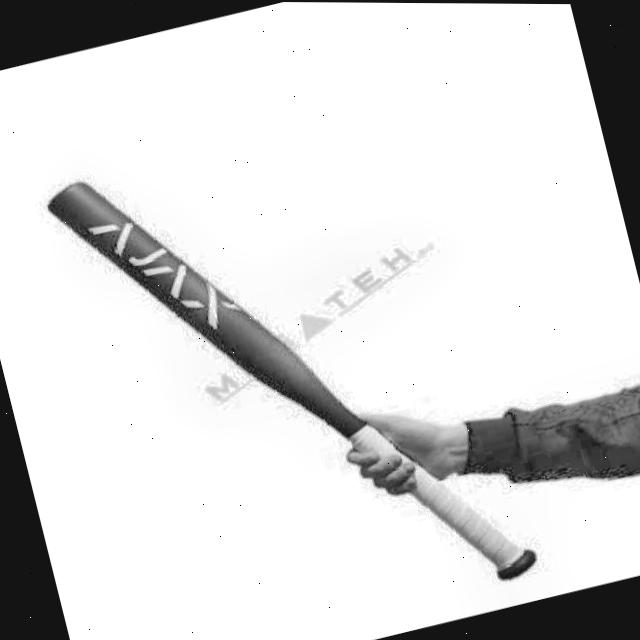tongkat pemukul: (38, 168, 544, 595)
